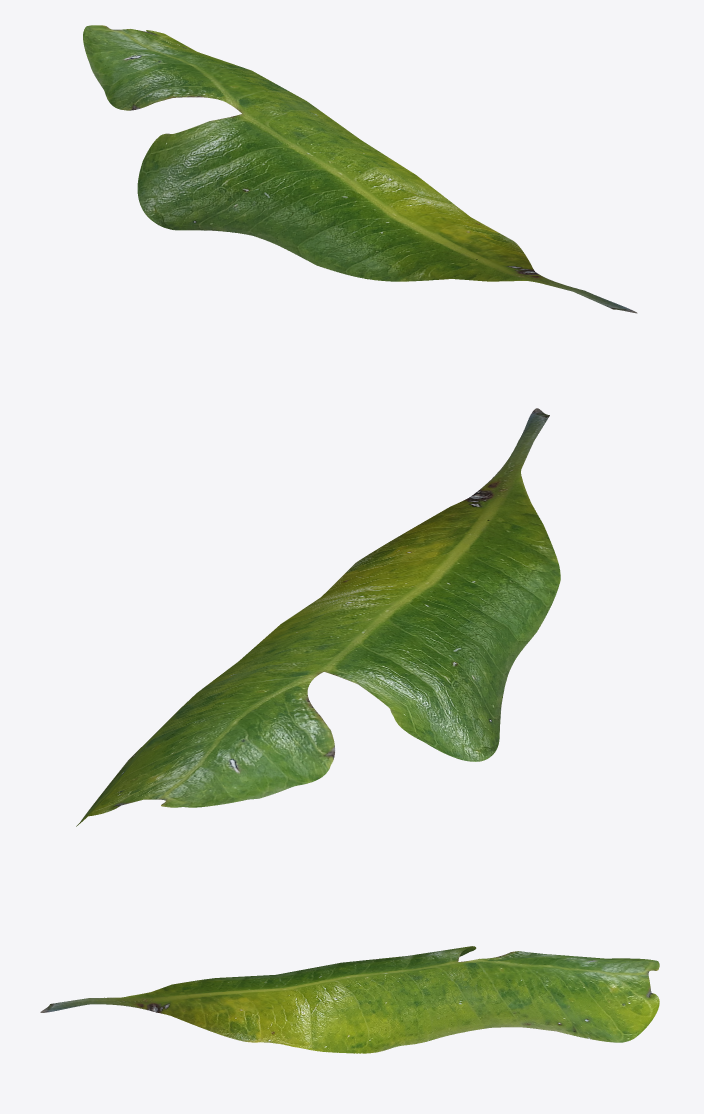
The model's file is SM_Leaf.fbx.
3 views of the same model, one above another, from view 1: azimuth 30°, elevation 25°; view 2: azimuth 150°, elevation 25°; view 3: azimuth 270°, elevation 25° (orthographic). The views are drawn at different scales.
Parts seen in each view (by area): view 1: Leaf; view 2: Leaf; view 3: Leaf.
Boxes of the visible parts, x1,y1,x2,y2 form: Leaf: [83, 25, 637, 313]; Leaf: [76, 408, 560, 826]; Leaf: [40, 946, 659, 1053].
Size of the model in its own units: 0.4308 by 0.1574 by 1.02.
Materials: 1 (1 with a texture image).
